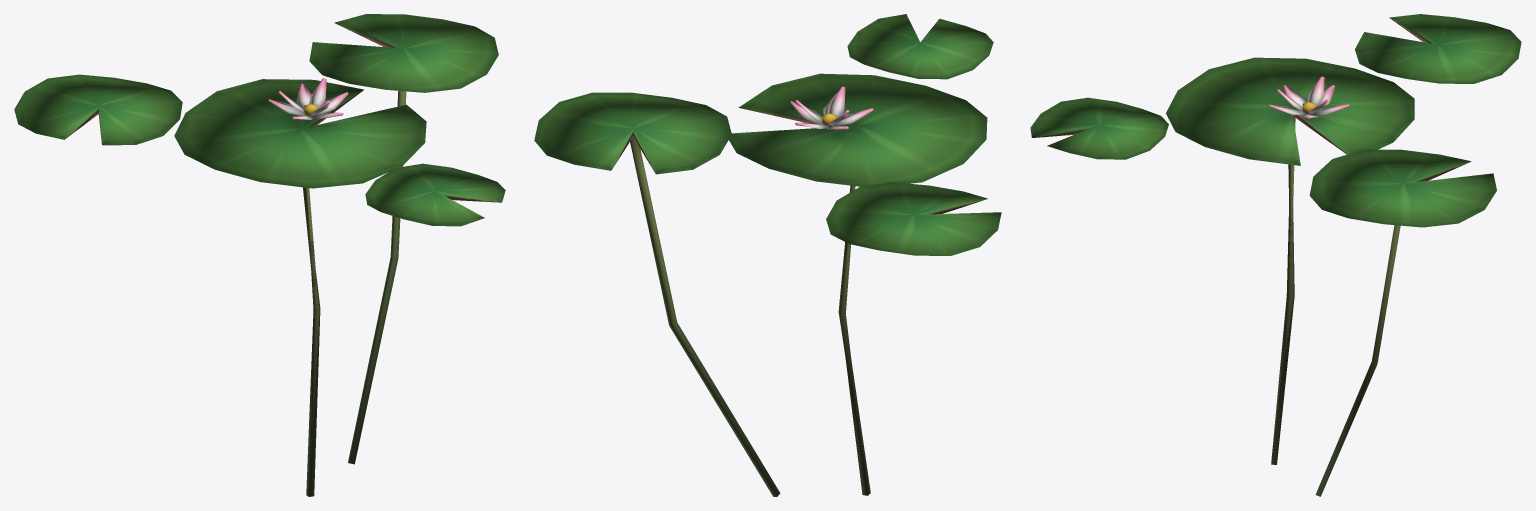
The model's file is Nenufar.fbx.
3 renders of one model, left to right at view 1: azimuth 30°, elevation 25°; view 2: azimuth 150°, elevation 25°; view 3: azimuth 270°, elevation 25°, orthographic. The views are drawn at different scales.
Visible parts, largest first — view 1: Malla; view 2: Malla; view 3: Malla.
Part boxes in pixels (<box>): Malla: <box>14,14,505,496</box>; Malla: <box>534,14,1001,496</box>; Malla: <box>1030,14,1521,496</box>.
Size of the model in its own units: 1.44 by 1.22 by 1.41.
1 material, 1 textured.
